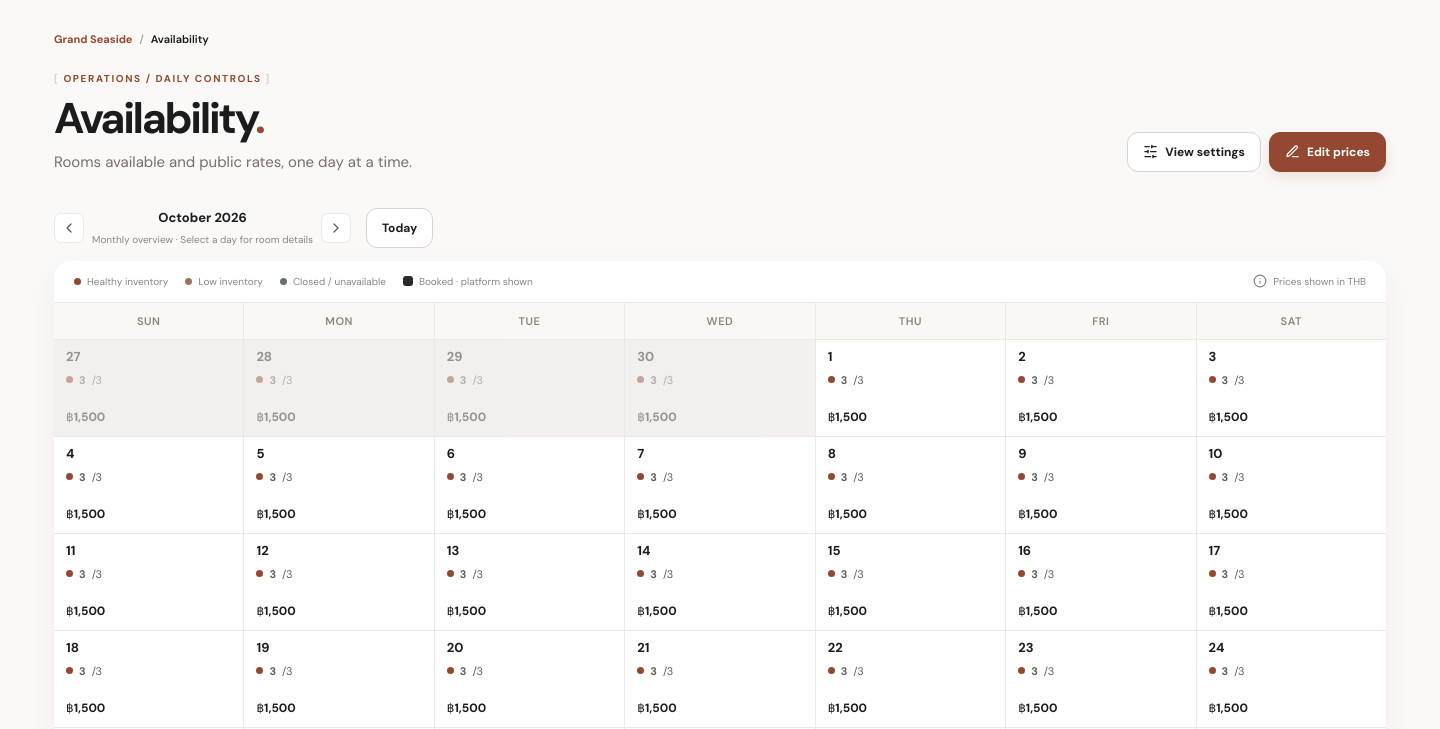
Test: Availability month calendar › uses the three-click IN, OUT, IN range selection
Expected: the text "Sun" is shown, [54, 303, 243, 339]
Expected: the text "Mon" is shown, [244, 303, 434, 339]
What coordinates should you click on to do the following:
click the button "3 3 /3 ฿1,500"
I would click on:
 (1291, 388)
Its box is [1197, 340, 1386, 436].
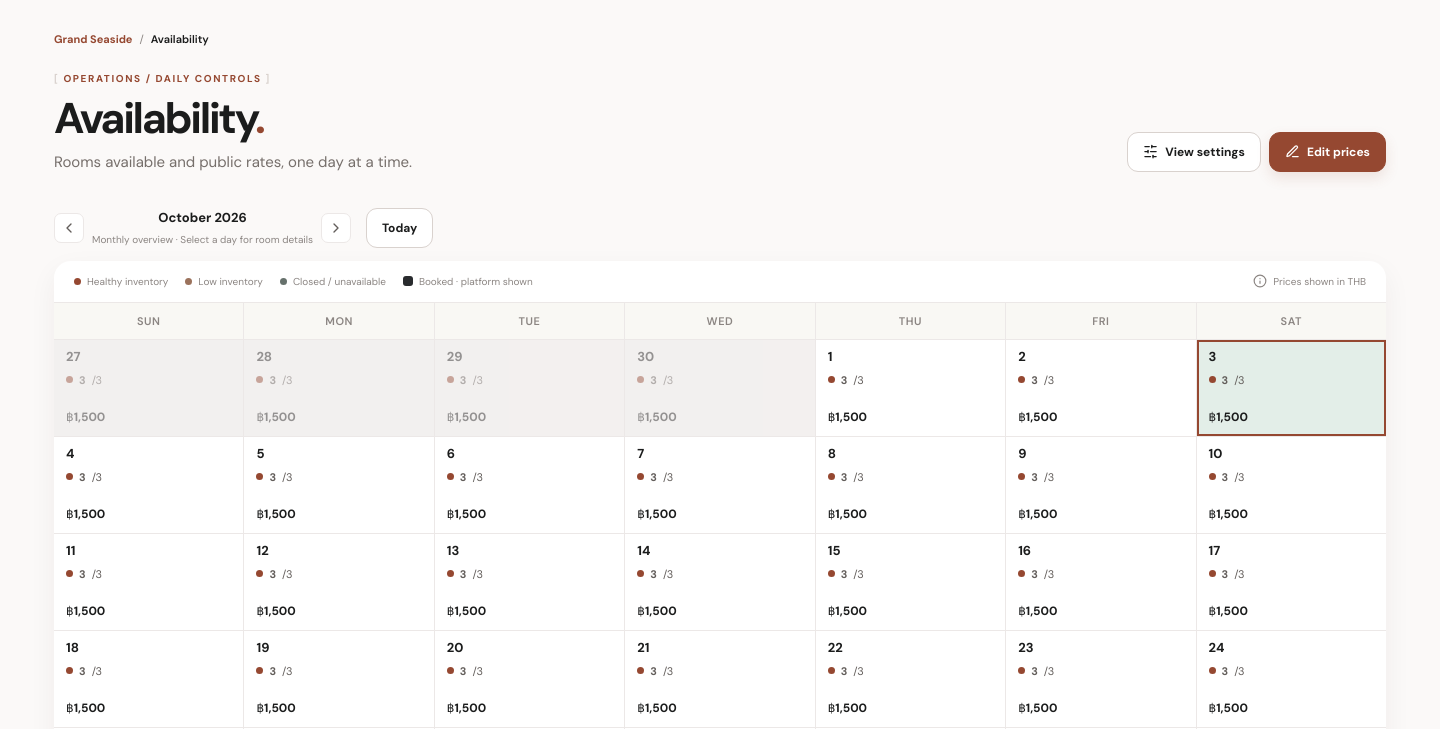
What coordinates should you click on to do the following:
click the button "6 3 /3 ฿1,500"
I would click on:
 (530, 485)
Its box is [435, 437, 624, 533].
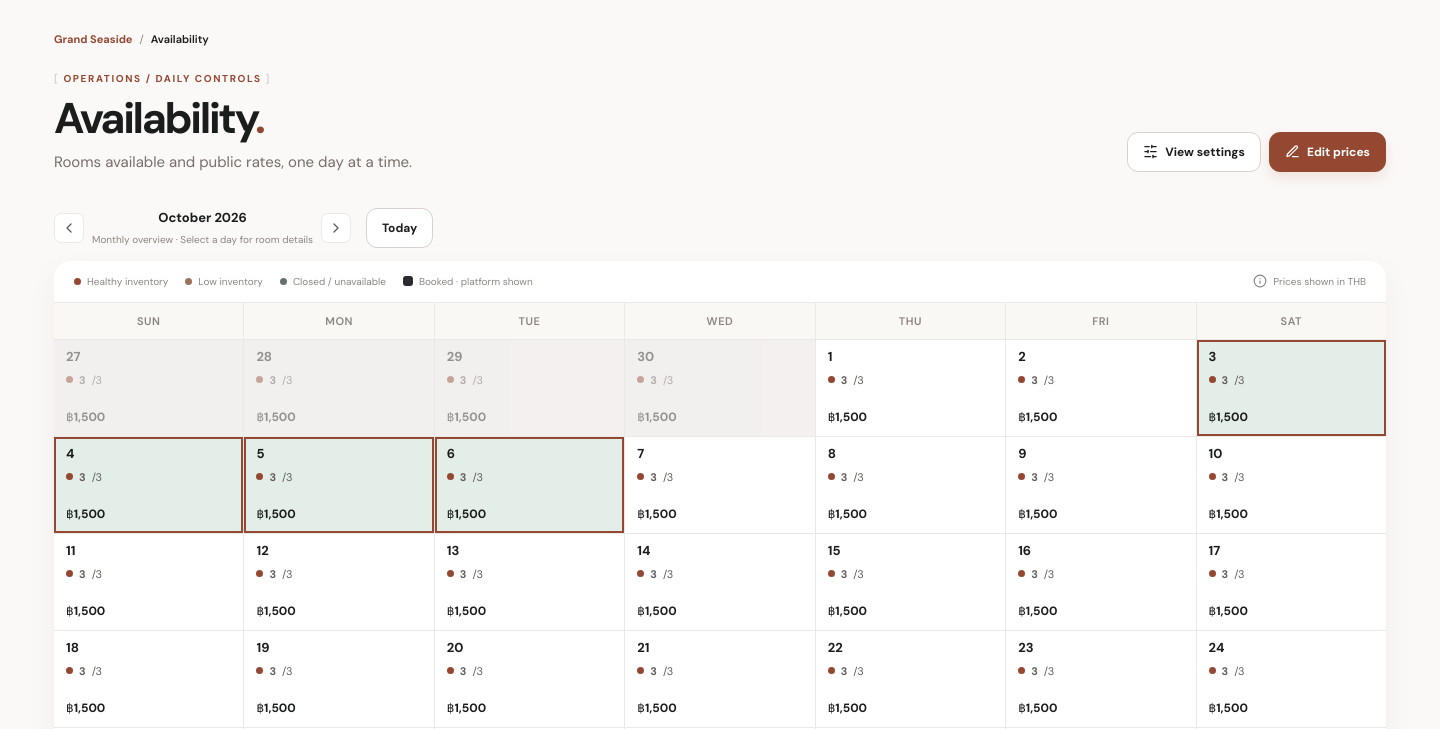
What coordinates should you click on to do the following:
click the button "9 3 /3 ฿1,500"
I would click on:
 (1101, 485)
Its box is [1006, 437, 1196, 533].
(page scrolled)
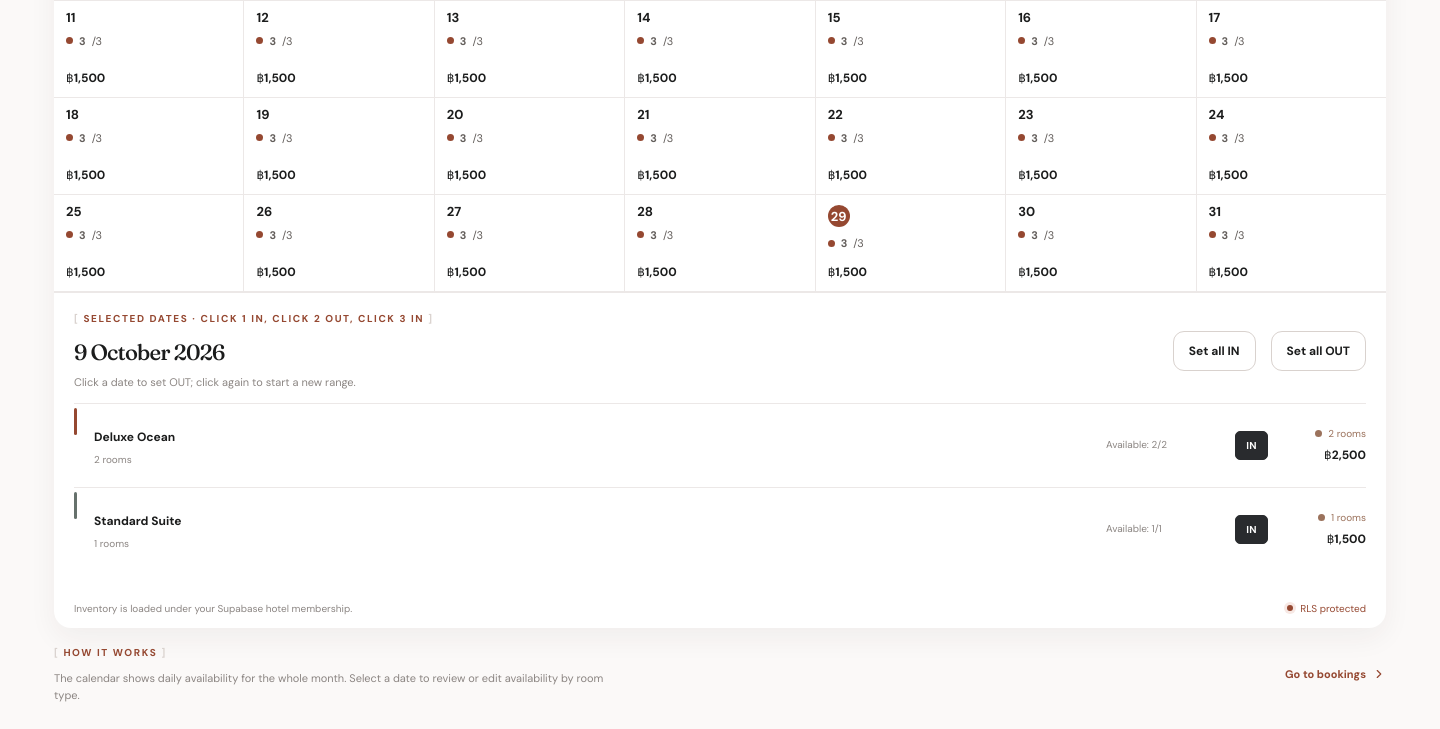
Result: the text "Click a date to set OUT; click again to start a new range." is shown at [74, 375, 356, 389]
